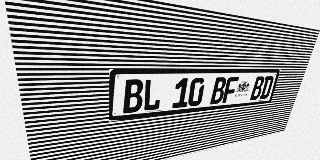0: (187, 78, 206, 107)
1: (172, 78, 191, 108)
B: (123, 79, 144, 113), (210, 77, 227, 104), (250, 76, 265, 100)
D: (259, 76, 274, 99)
F: (222, 77, 239, 103)
L: (142, 79, 162, 111)
